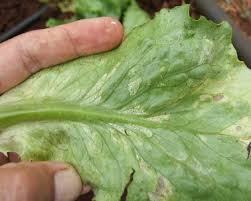Diseased_Leaves: (59, 70, 247, 153), (139, 172, 178, 201), (174, 36, 215, 63)
